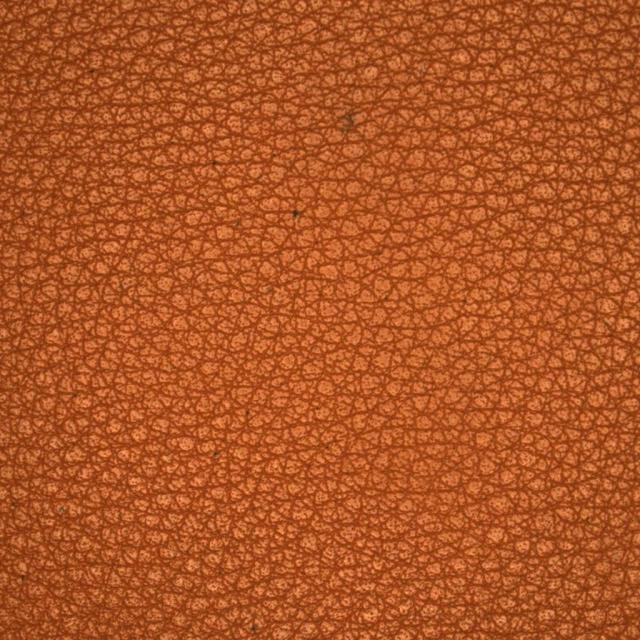Hole: (232, 83, 408, 250)
